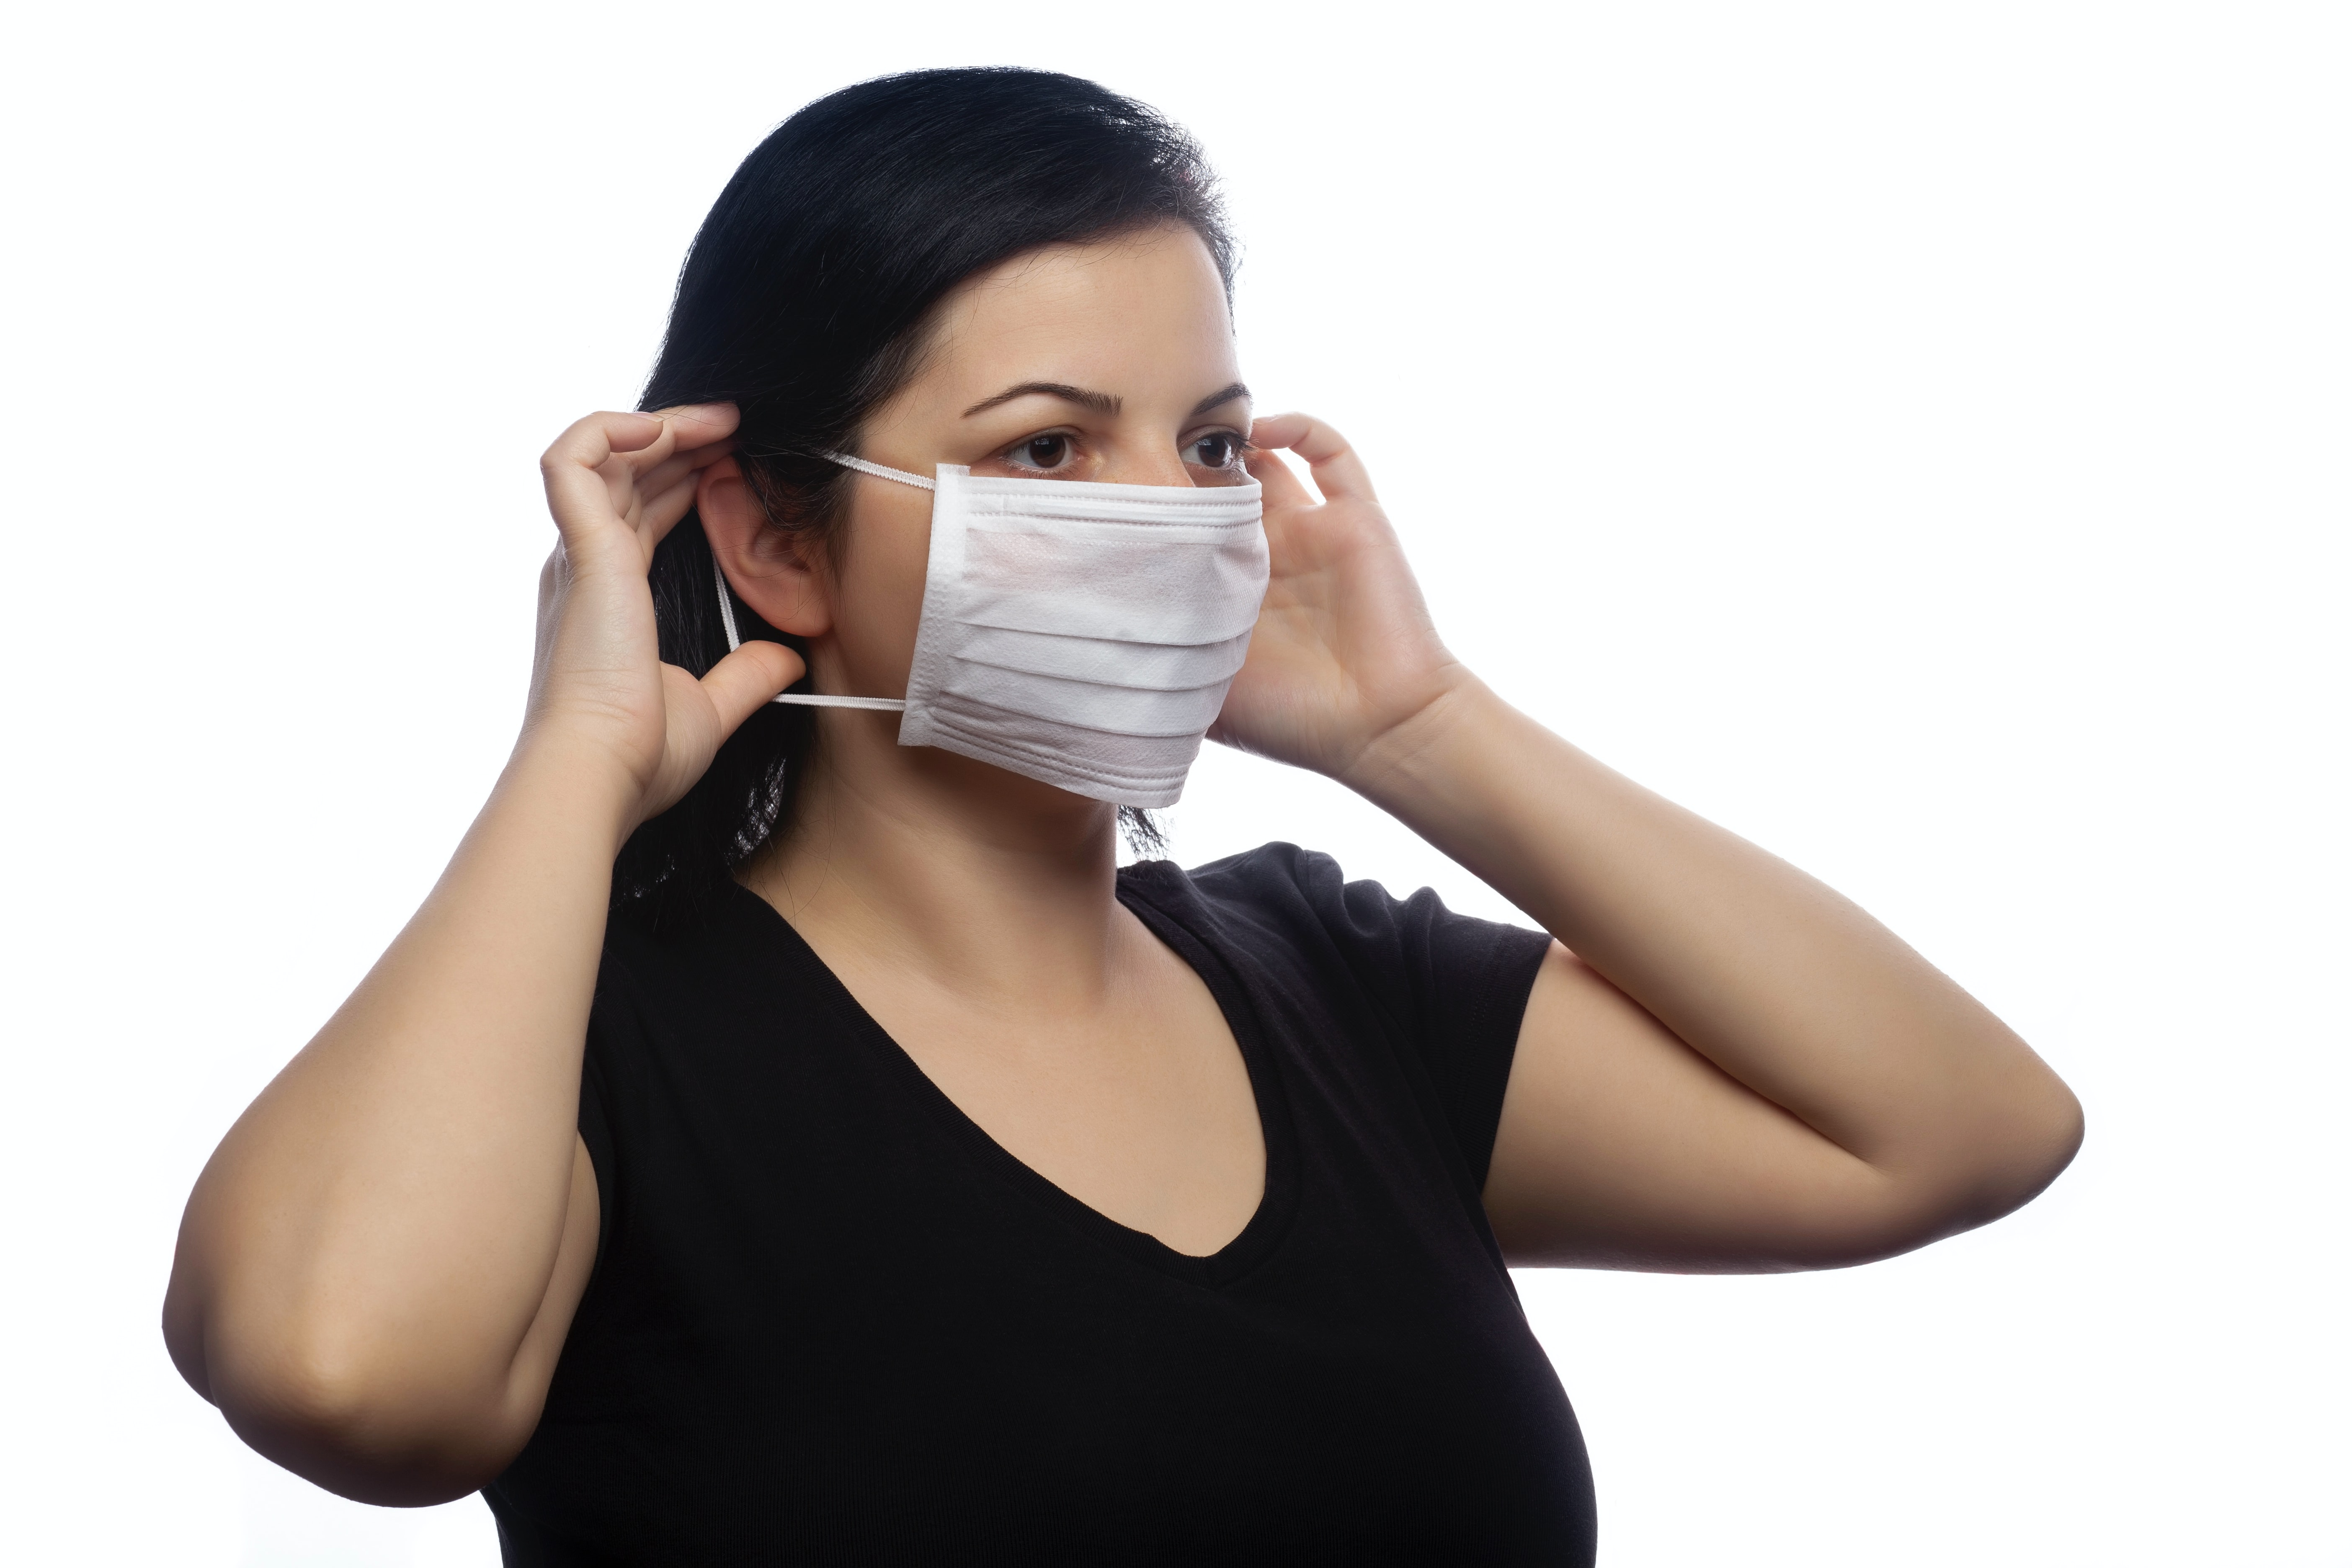mask: (677, 422, 1279, 806)
person: (115, 125, 2107, 1568)
